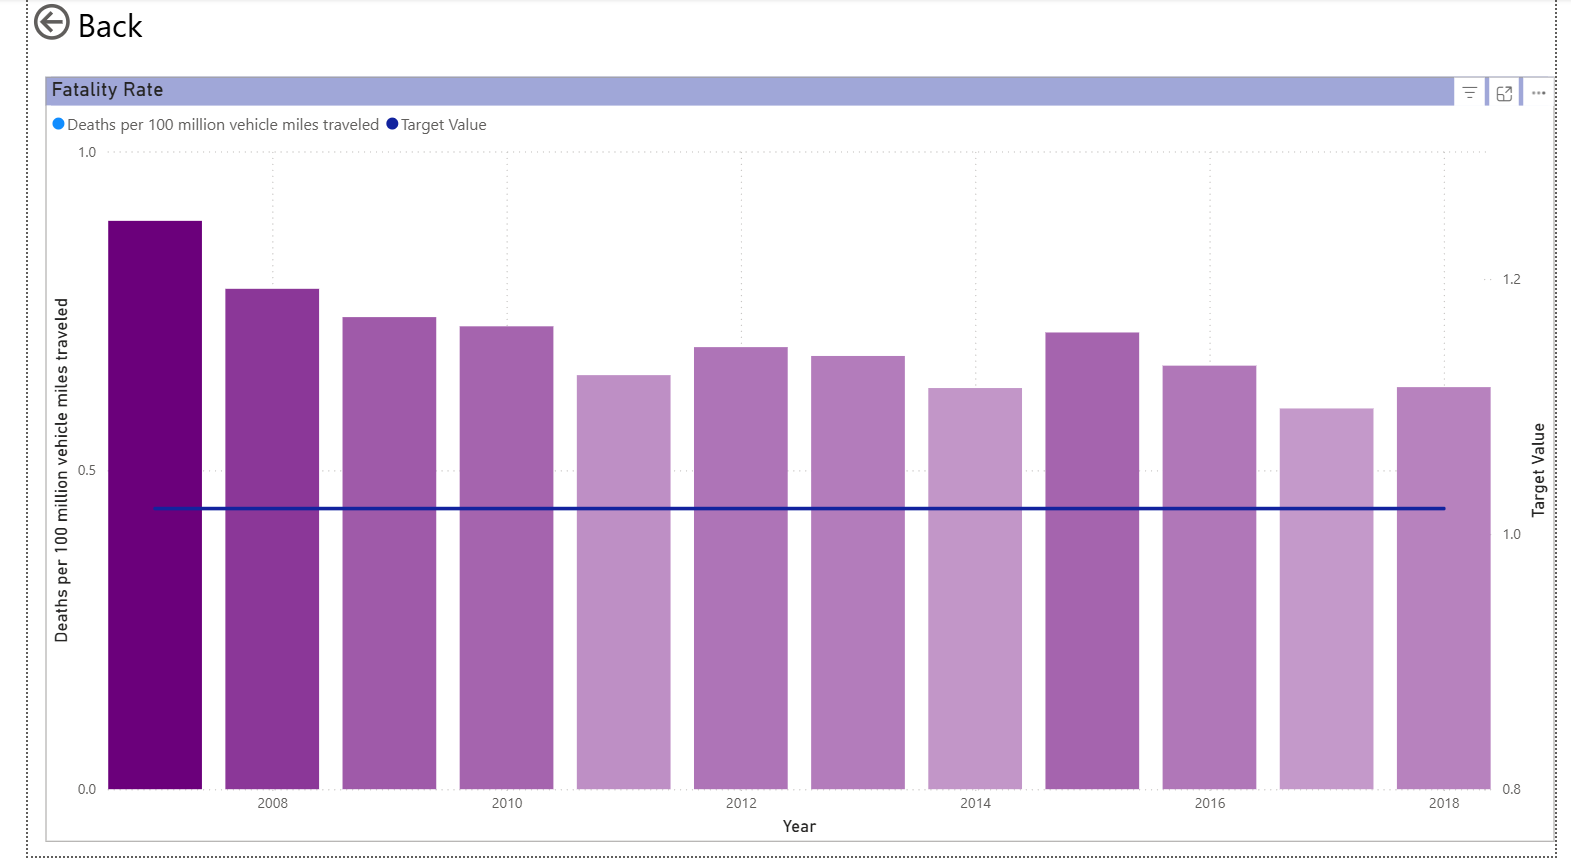

Layout of this report page (visuals, bound fields, positions):
{"tool":"powerbi","page":{"name":"Fatality Rate","canvas":[1280,720],"ordinal":3},"visuals":[{"type":"lineClusteredColumnComboChart","title":"Fatality Rate","fields":{"Category":["PA - Driving Safety.Year"],"Y":["Sum(PA - Driving Safety.Deaths per 100 million vehicle miles traveled)"],"Y2":["Sum(PA - Driving Safety.Target1.2)"]},"box":[15,66.2,1265,641.2],"z":0},{"type":"actionButton","box":[0,0,100,40],"z":1000}]}

Visuals, with their boxes on the page's 1280x720 design canvas (x1, y1, x2, y2). These are canvas units, not pixel positions in the 1571x859 screenshot, which may show the page scaled, cropped or inside an application window:
"Fatality Rate" lineClusteredColumnComboChart: BBox(15, 66, 1280, 707)
actionButton: BBox(0, 0, 100, 40)
